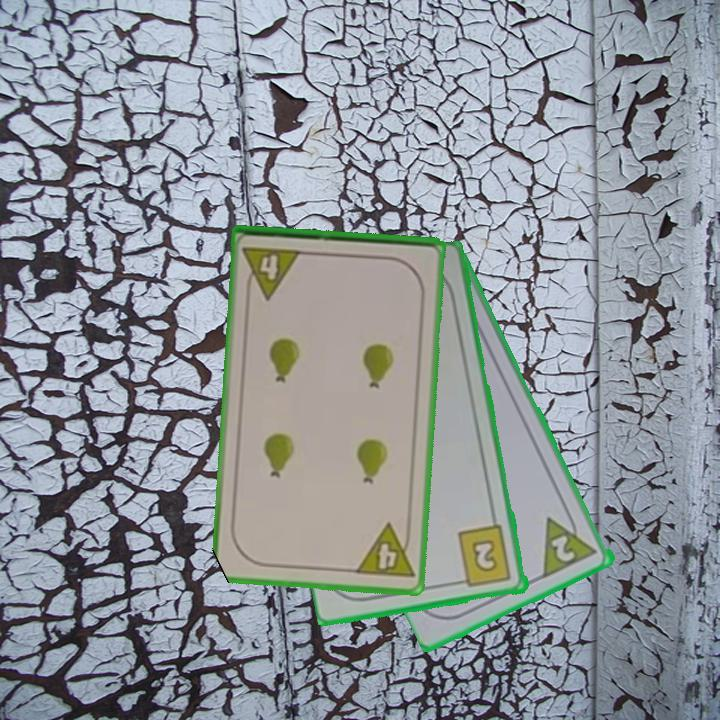2b: (453, 522, 515, 591)
2p: (539, 505, 601, 580)
4p: (351, 520, 417, 582), (239, 243, 305, 302)
